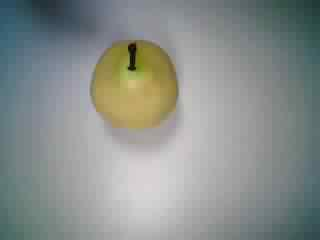pear: (80, 26, 186, 133)
